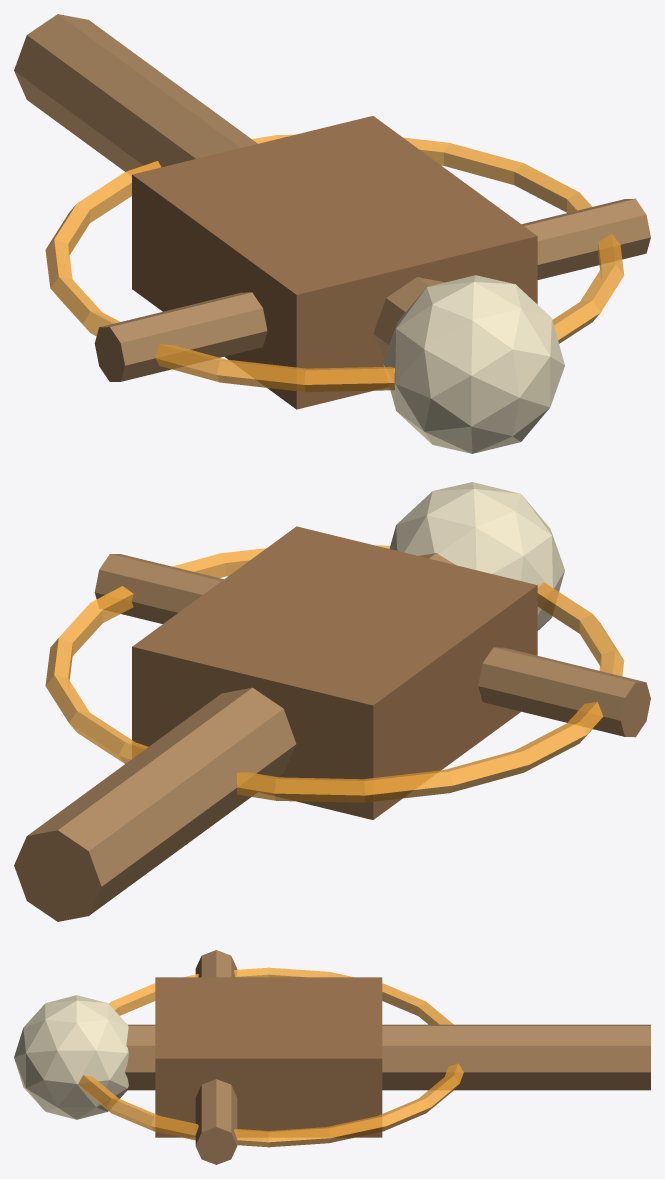
File: armored_training_dummy.glb
3 views of the same model, one above another, from view 1: azimuth 30°, elevation 25°; view 2: azimuth 150°, elevation 25°; view 3: azimuth 270°, elevation 25° (orthographic). The views are drawn at different scales.
Parts seen in each view (by area): view 1: dummy_torso, dummy_head, dummy_post, timing_ring, arm_bar; view 2: dummy_torso, dummy_post, timing_ring, arm_bar, dummy_head; view 3: dummy_torso, dummy_post, dummy_head, timing_ring, arm_bar.
Boxes of the visible parts, x1,y1,x2,y2 form: dummy_torso: [132, 116, 537, 409]; dummy_head: [383, 275, 564, 453]; dummy_post: [14, 14, 445, 358]; timing_ring: [45, 134, 624, 392]; arm_bar: [94, 198, 650, 381]; dummy_torso: [132, 526, 537, 819]; dummy_post: [14, 553, 455, 921]; timing_ring: [45, 545, 624, 802]; arm_bar: [94, 554, 650, 737]; dummy_head: [389, 482, 564, 630]; dummy_torso: [155, 977, 382, 1137]; dummy_post: [125, 1024, 650, 1090]; dummy_head: [14, 995, 128, 1119]; timing_ring: [78, 967, 463, 1147]; arm_bar: [195, 950, 237, 1164].
Size of the model in its own units: 1.2 by 0.36 by 1.83.
